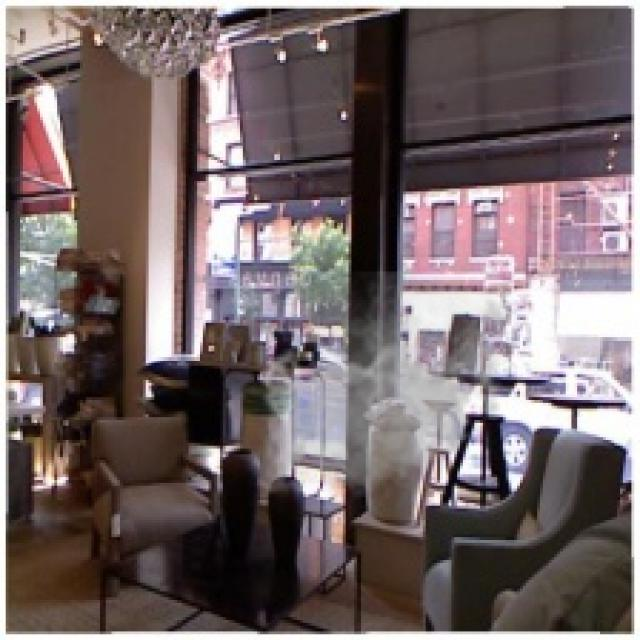smoke: (257, 271, 517, 506)
